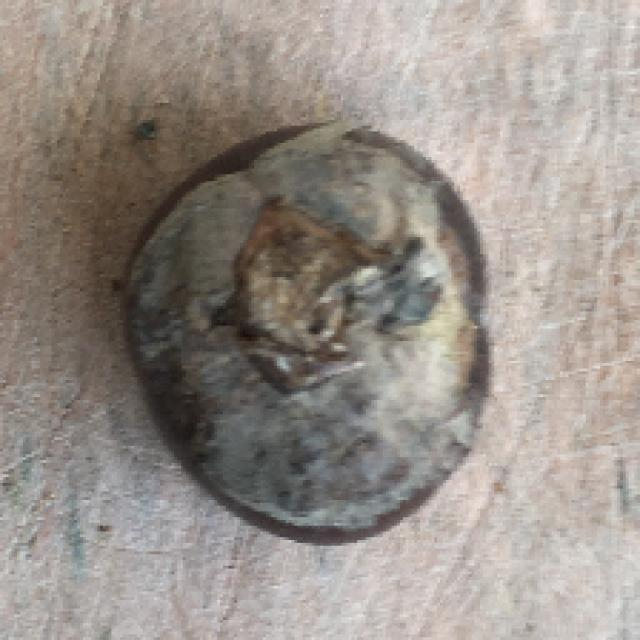damagedHazelnut: (114, 116, 493, 544)
